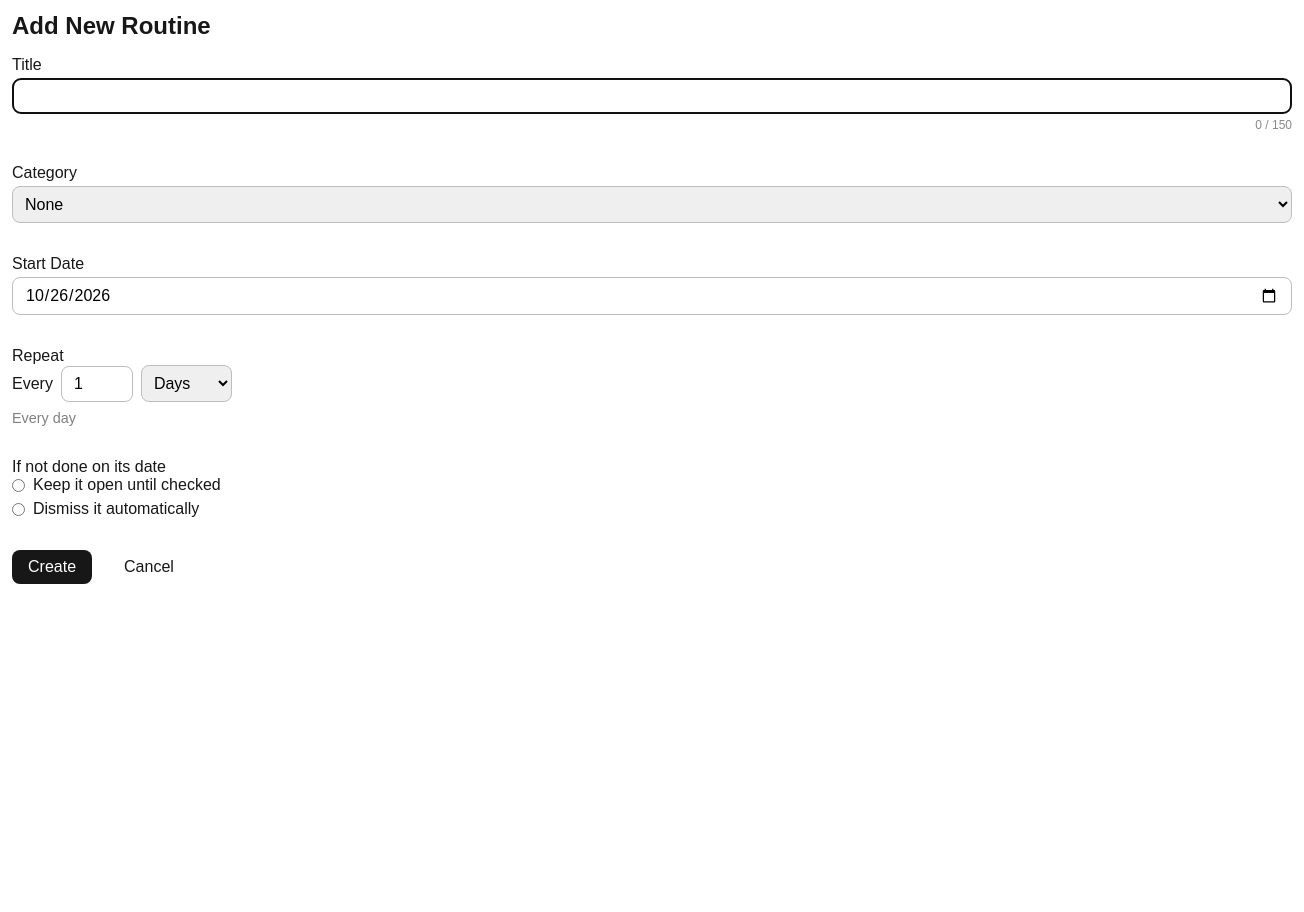
RoutineForm › keeps the form open and shows the error when saving fails
Type "Water plants" into the field labelled "Title" at (652, 96), box top-left (12, 78), bottom-right (1292, 114)
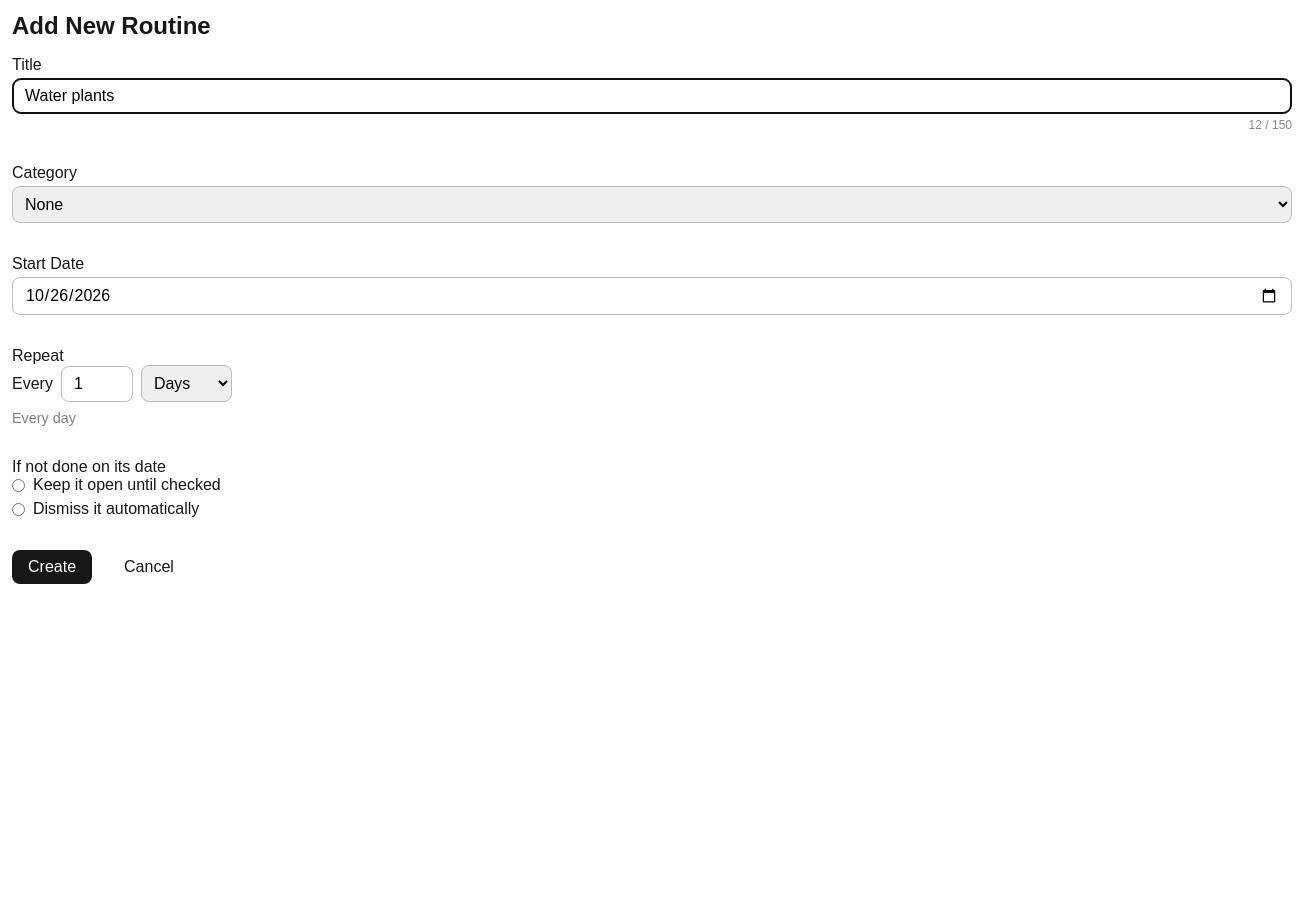
Click the radio button labelled "Dismiss it automatically" at (18, 509), box top-left (12, 502), bottom-right (25, 516)
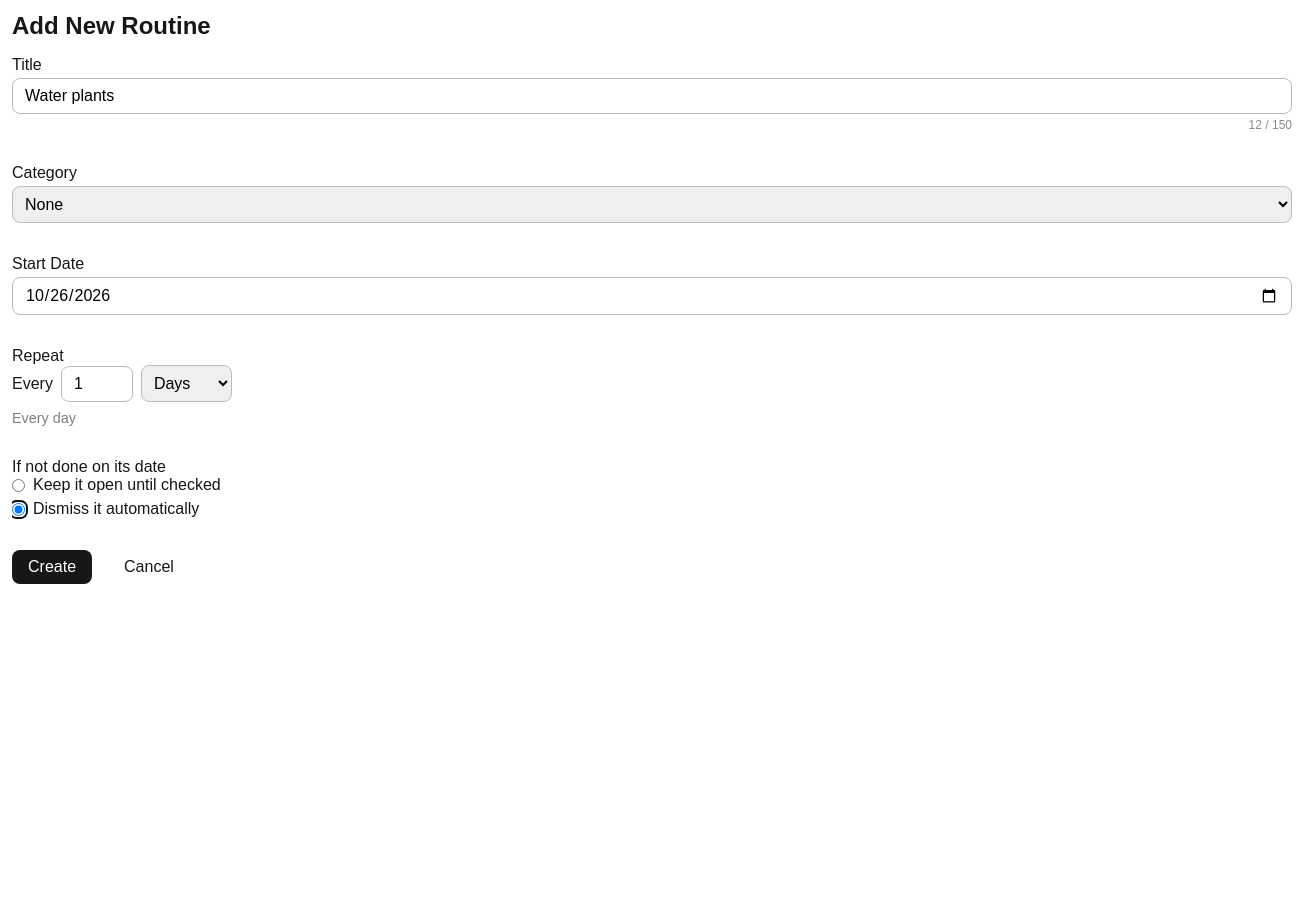
Click the button "Create" at (52, 567), box top-left (12, 550), bottom-right (92, 584)
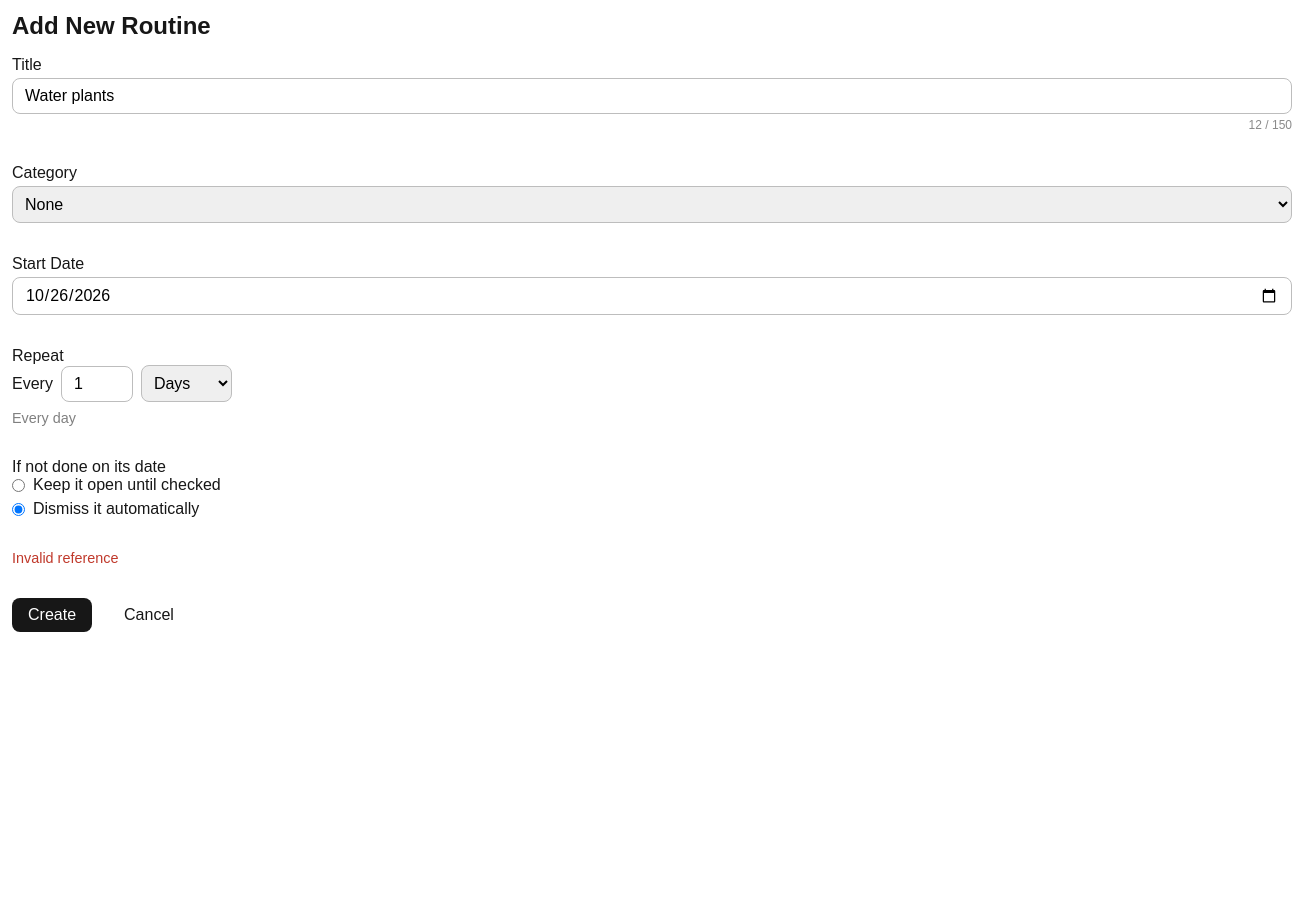
Check: the message reads "Invalid reference", box top-left (12, 550), bottom-right (118, 566)
